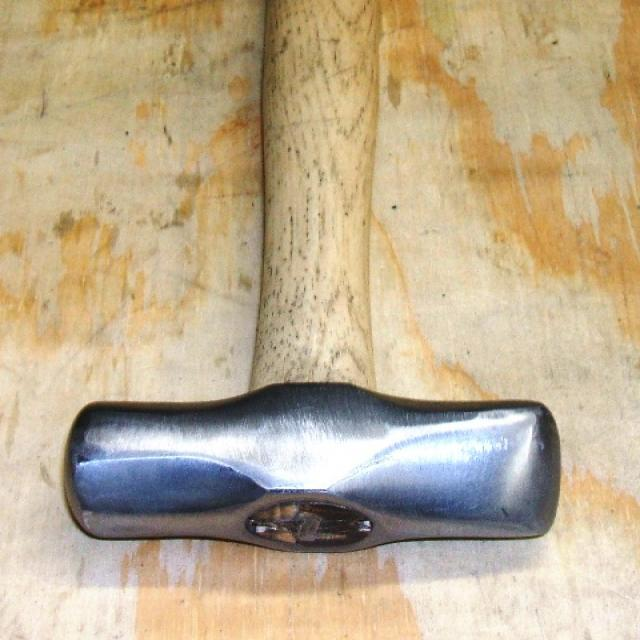hammer: (58, 0, 568, 557)
